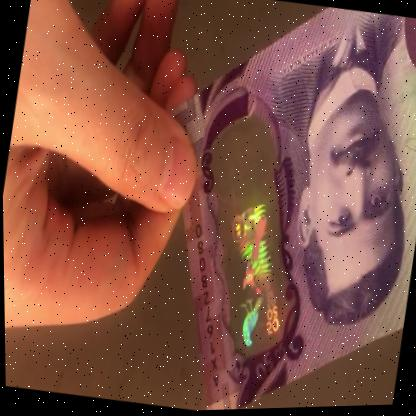50F: (206, 133, 310, 356)
